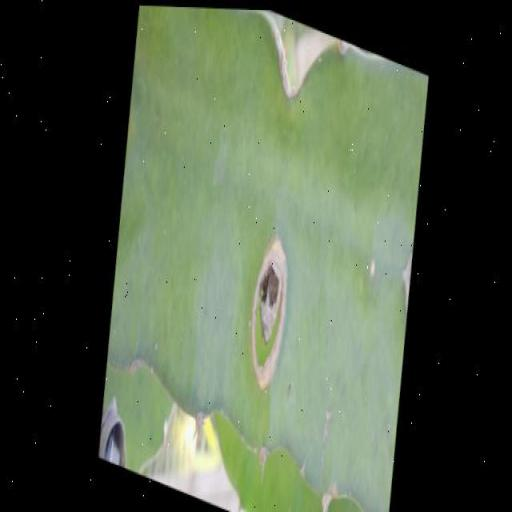stemcanker: (359, 238, 386, 298)
